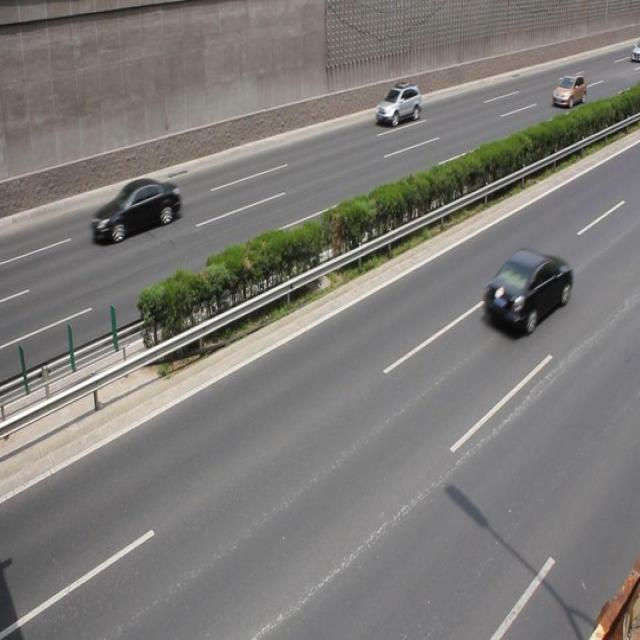car: (481, 246, 569, 336), (91, 176, 181, 242), (374, 82, 420, 130), (551, 73, 584, 108)
